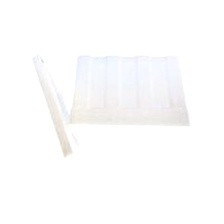foam_box: (27, 48, 194, 175)
